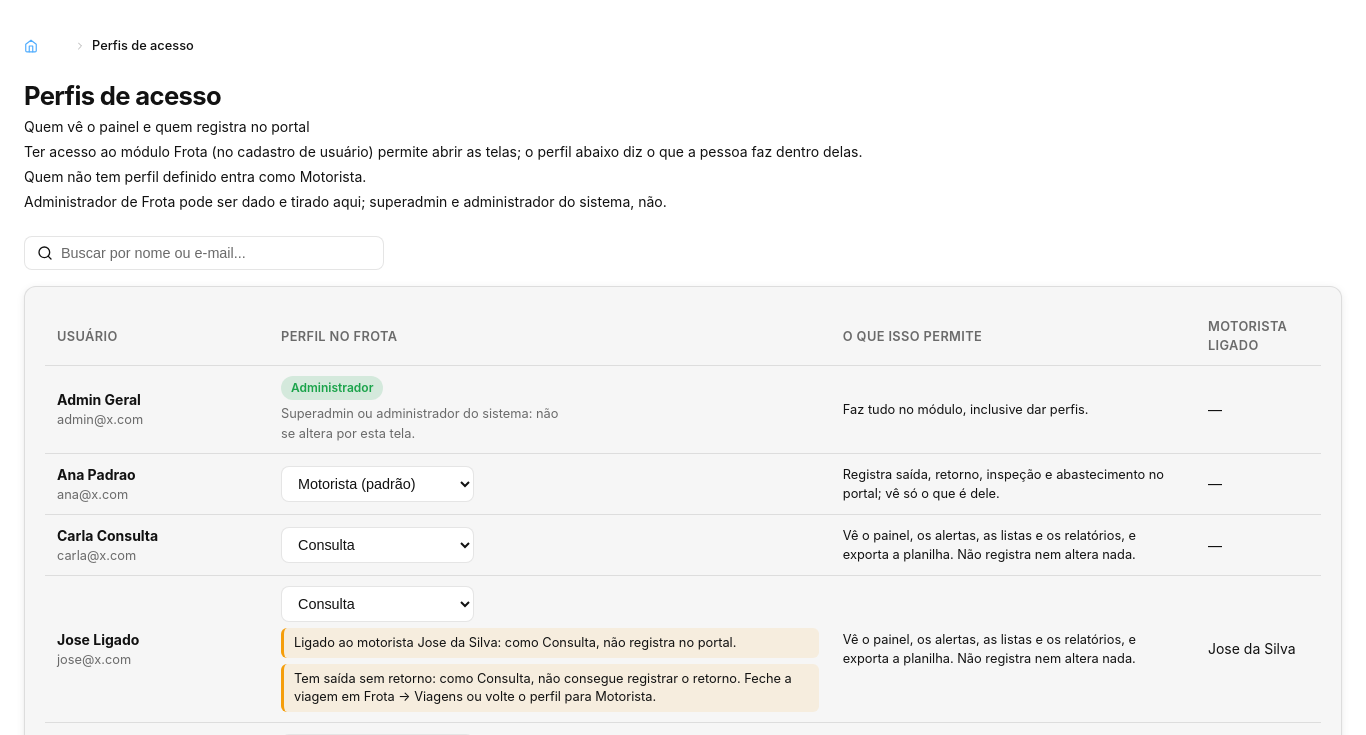
Test: Perfis de acesso — Administrador de Frota (Etapa 8, RN-F8.10) › Confirmou: 1 PUT com ADMIN_FROTA, toast "Perfil definido: Administrador de Frota" e a linha passa a admin_modulo (seletor em Administrador)
This screenshot has width=1366, height=735.
Select "Administrador de Frota" in the dropdown named "Perfil no Frota de Ana Padrao" at coordinates (378, 484), box x1=281 y1=466 x2=474 y2=502
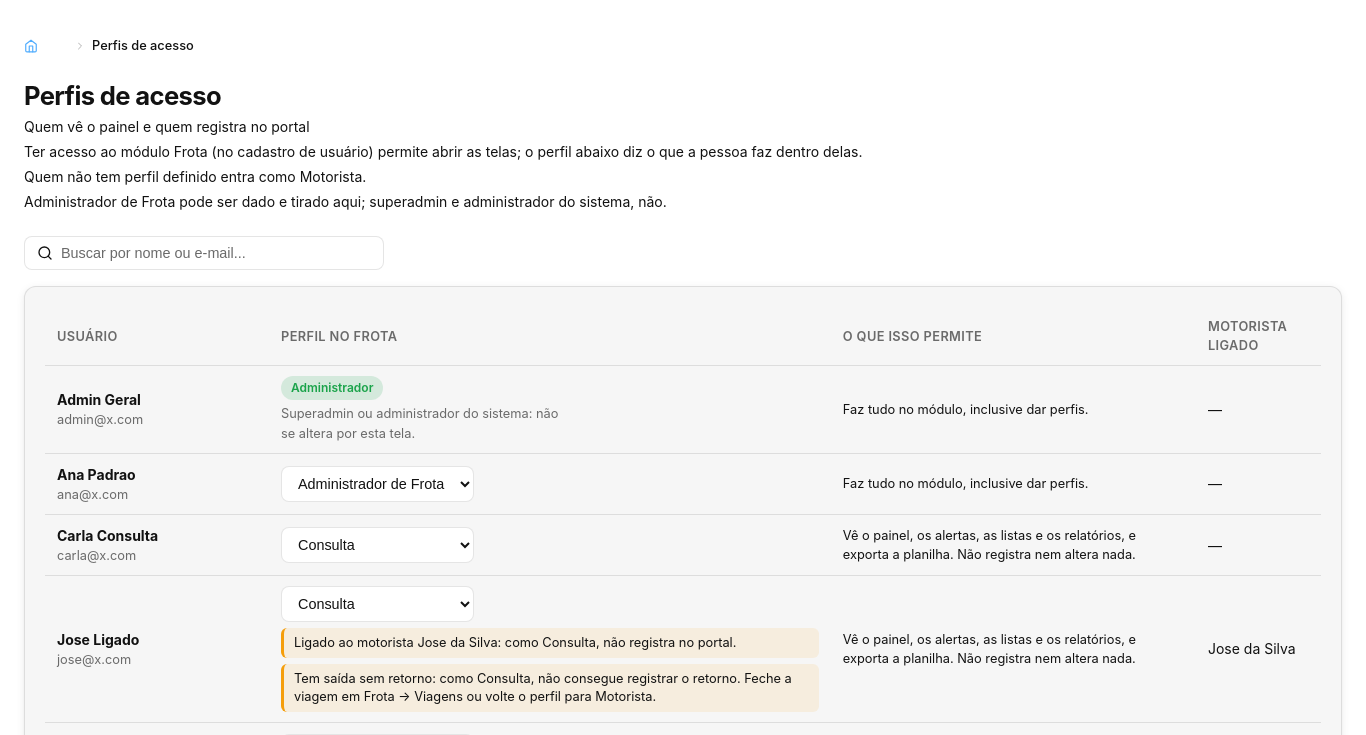
Expected: the row that starts with "Ana Padrao" shows "Faz tudo no módulo, inclusive dar perfis.", x1=843 y1=476 x2=1088 y2=491
